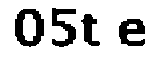0: (8, 4, 46, 51)
5: (49, 3, 79, 50)
e: (115, 16, 149, 49)
t: (80, 12, 103, 51)
